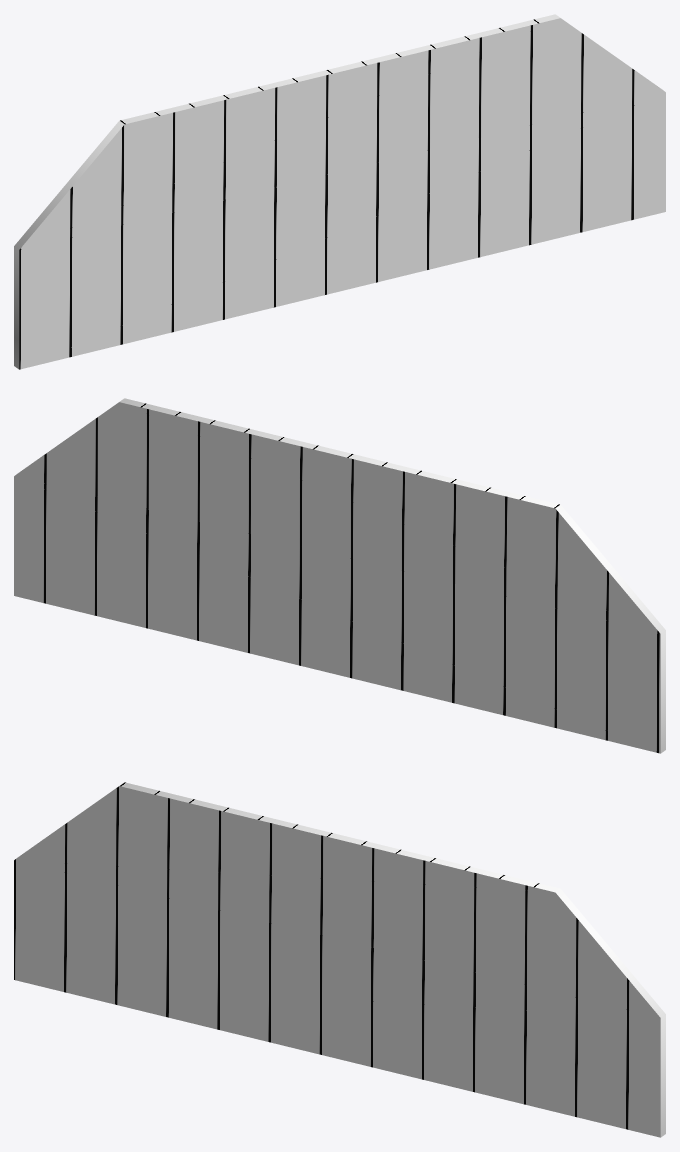
File: pm-interior-wall-02.glb
3 views of the same model, one above another, from view 1: azimuth 30°, elevation 25°; view 2: azimuth 150°, elevation 25°; view 3: azimuth 330°, elevation 25° (orthographic).
Parts seen in each view (by area): view 1: InteriorWall02; view 2: InteriorWall02; view 3: InteriorWall02.
Part boxes in pixels (x1=…): InteriorWall02: x1=14, y1=14, x2=665, y2=369; InteriorWall02: x1=14, y1=398, x2=665, y2=753; InteriorWall02: x1=14, y1=782, x2=665, y2=1137.
Size of the model in its own units: 10.7 by 3.47 by 0.1502.
Materials: 1 (1 with a texture image).
